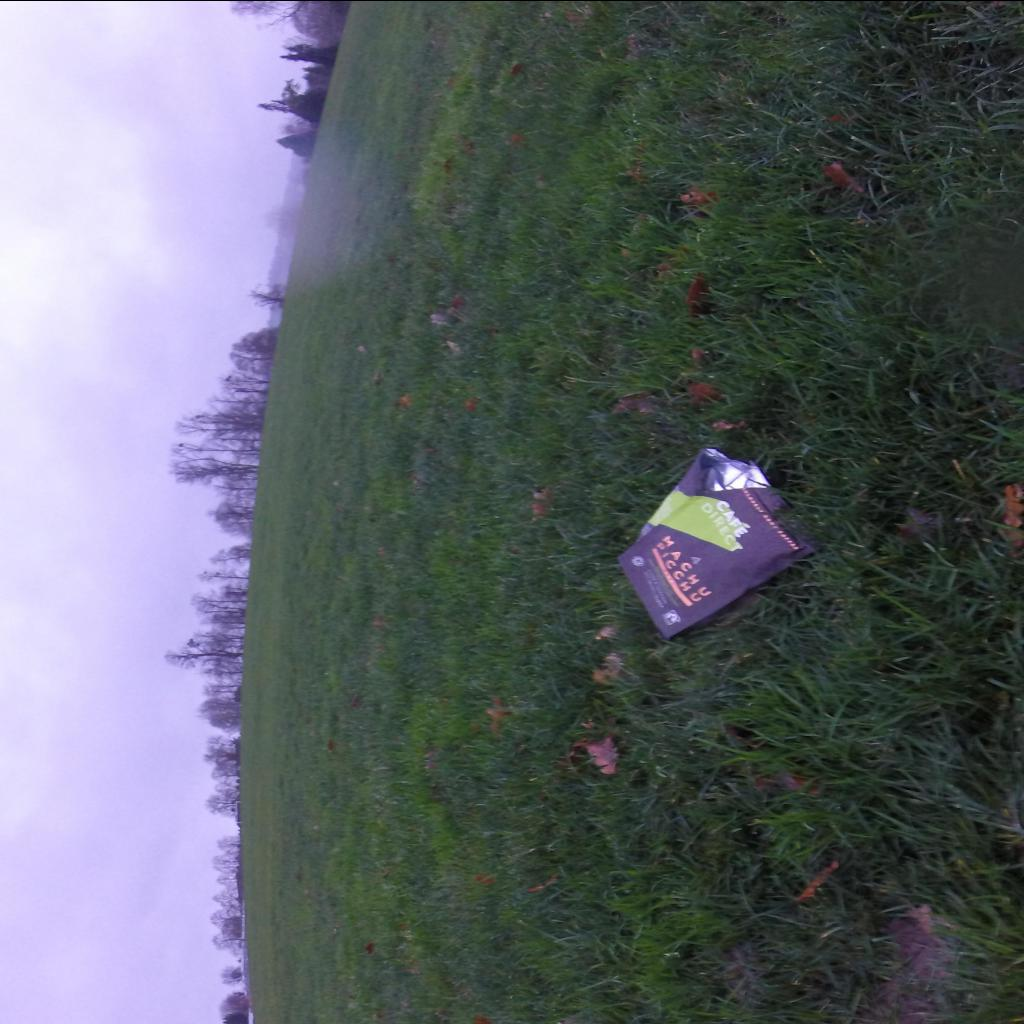Other plastic: (618, 446, 820, 640)
